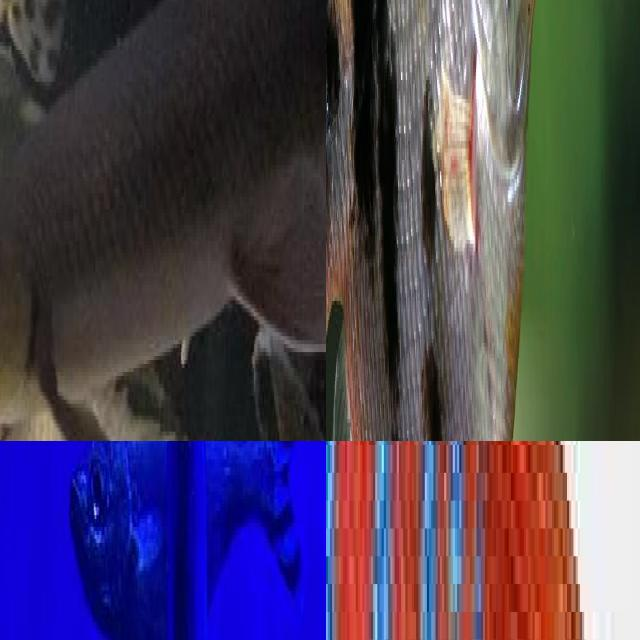fish: (0, 0, 326, 441), (172, 441, 210, 640)
